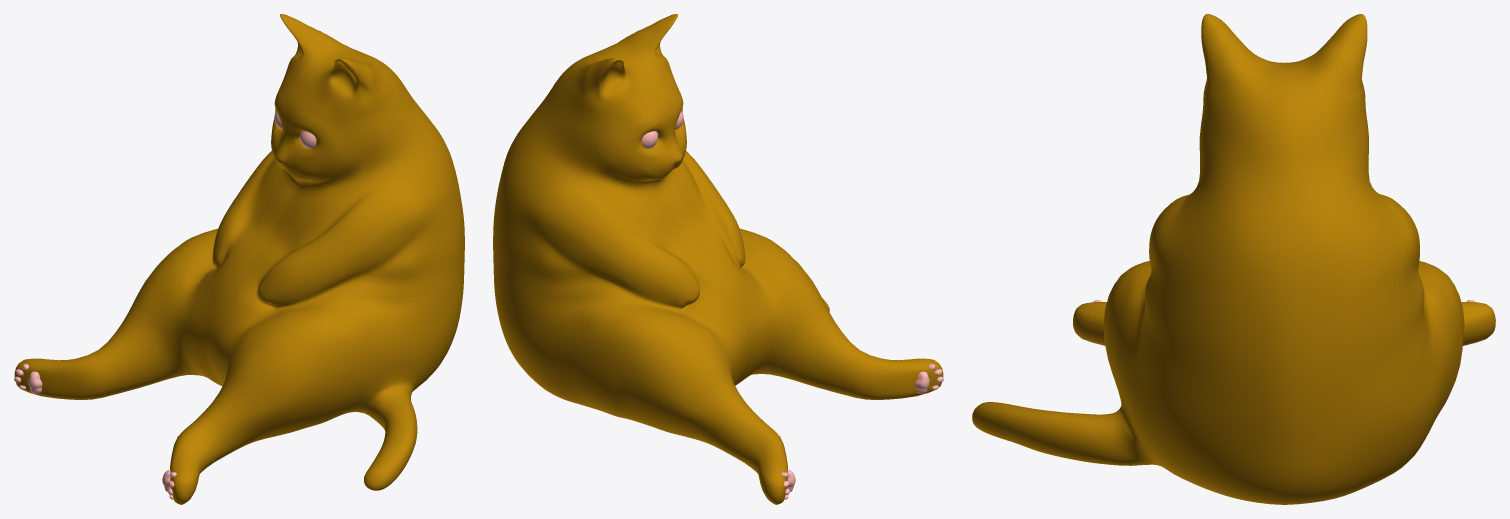
The model's file is cat.fbx.
3 views of the same model, side by side, from view 1: azimuth 30°, elevation 25°; view 2: azimuth 150°, elevation 25°; view 3: azimuth 270°, elevation 25° (orthographic). The views are drawn at different scales.
Parts seen in each view (by area): view 1: body, feet; view 2: body, feet; view 3: body.
Boxes of the visible parts, left/top/right/bottom form: body: left=14, top=14, right=464, bottom=504; feet: left=14, top=363, right=176, bottom=499; body: left=493, top=14, right=943, bottom=504; feet: left=781, top=363, right=943, bottom=499; body: left=972, top=14, right=1495, bottom=504.
Size of the model in its own units: 3.76 by 3.57 by 3.73.
